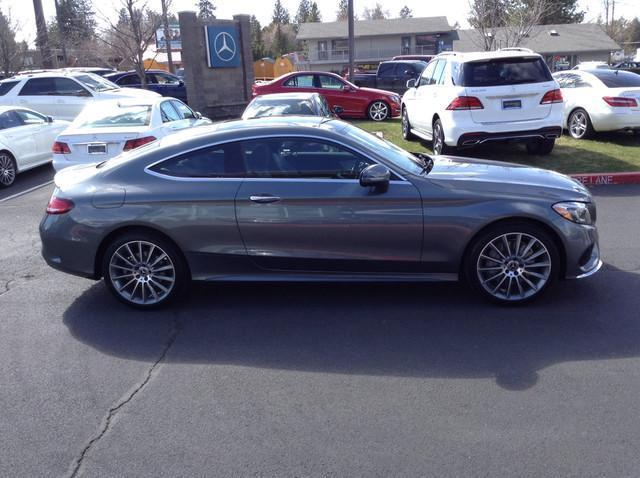C300Coupe: (35, 112, 602, 309)
